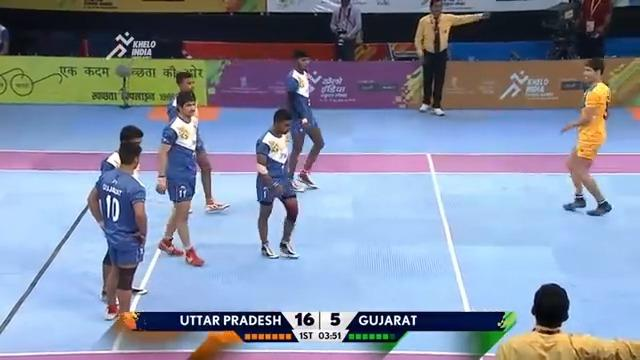Player: (494, 282, 639, 359), (88, 141, 148, 321), (165, 71, 230, 213), (155, 91, 205, 266), (412, 0, 487, 115), (559, 61, 613, 216), (254, 107, 301, 259), (283, 49, 324, 191), (573, 0, 613, 78), (328, 0, 363, 61)
referee: (540, 0, 582, 59)
